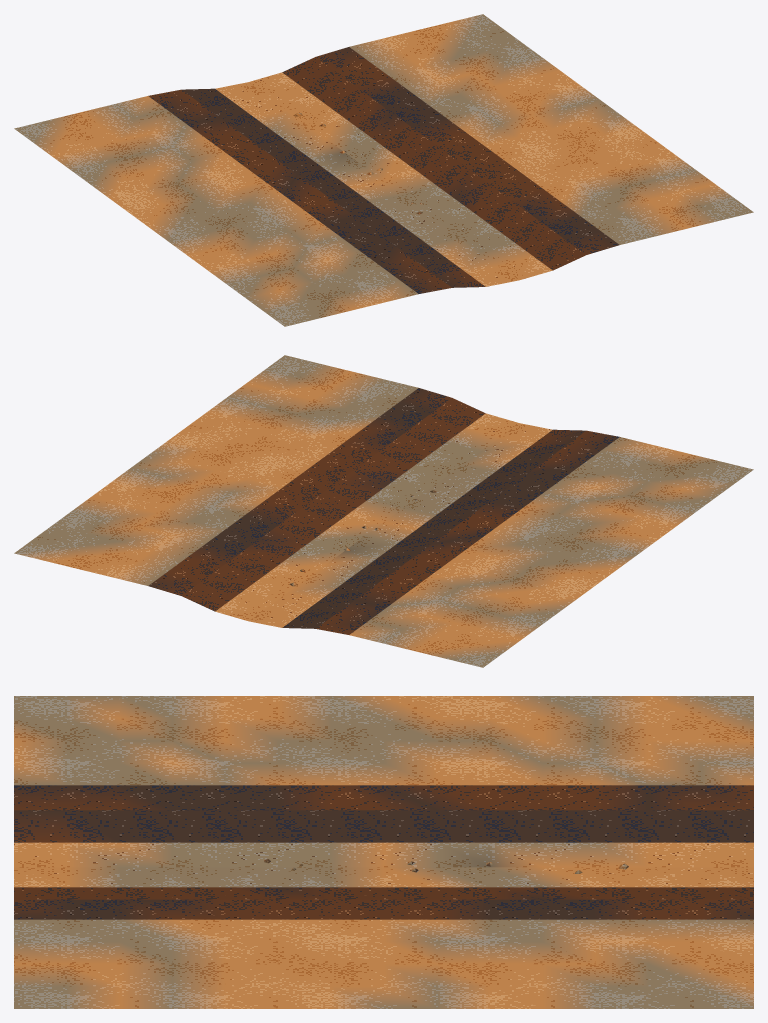
The model's file is wland.riverbed__canyon.glb.
The picture shows the model from 3 angles, top to bottom: view 1: azimuth 30°, elevation 25°; view 2: azimuth 150°, elevation 25°; view 3: azimuth 270°, elevation 25°; orthographic projection. The views are drawn at different scales.
Visible parts, largest first — view 1: kit_shell_ground; view 2: kit_shell_ground; view 3: kit_shell_ground.
Boxes of the visible parts, x1,y1,x2,y2 form: kit_shell_ground: (14,14,753,326); kit_shell_ground: (14,355,753,667); kit_shell_ground: (14,696,753,1008).
Size of the model in its own units: 32 by 0.7 by 32.
Materials: 4 (4 with a texture image).
